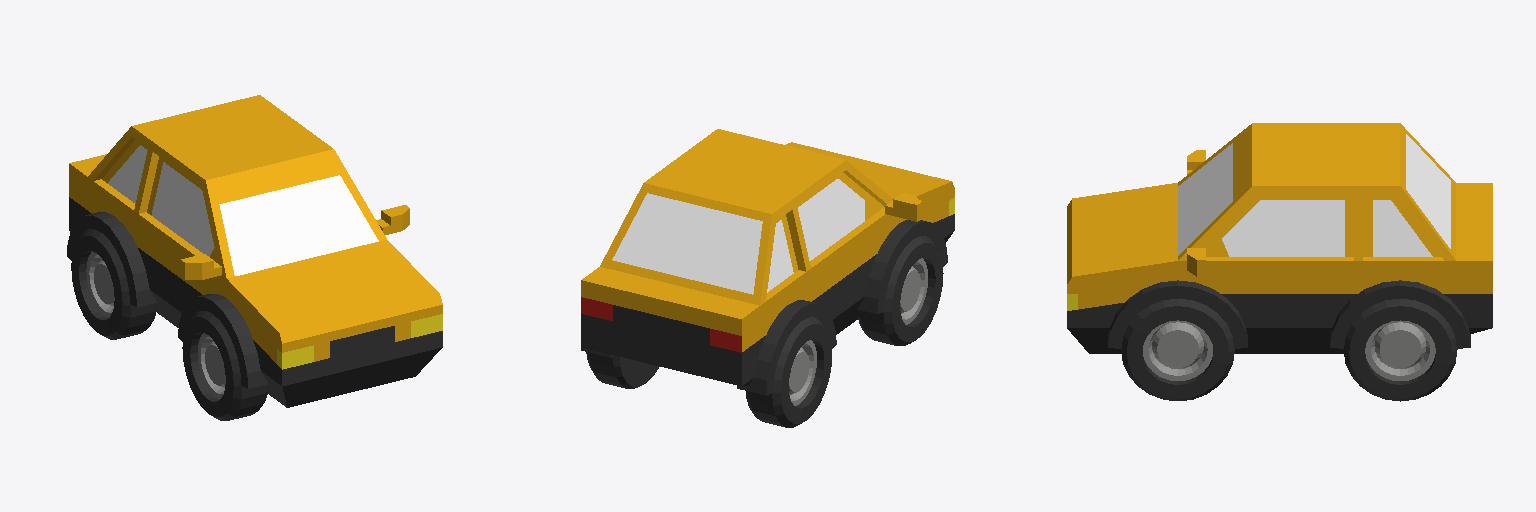
File: car_small_yellow.obj
3 renders of one model, left to right at view 1: azimuth 30°, elevation 25°; view 2: azimuth 150°, elevation 25°; view 3: azimuth 270°, elevation 25°, orthographic.
Visible parts, largest first — view 1: mergedBlocks; view 2: mergedBlocks; view 3: mergedBlocks.
Boxes of the visible parts, <box> form: mergedBlocks: <box>67,95,442,420</box>; mergedBlocks: <box>581,129,954,427</box>; mergedBlocks: <box>1067,123,1492,401</box>.
Size of the model in its own units: 1.4 by 1.21 by 2.3.